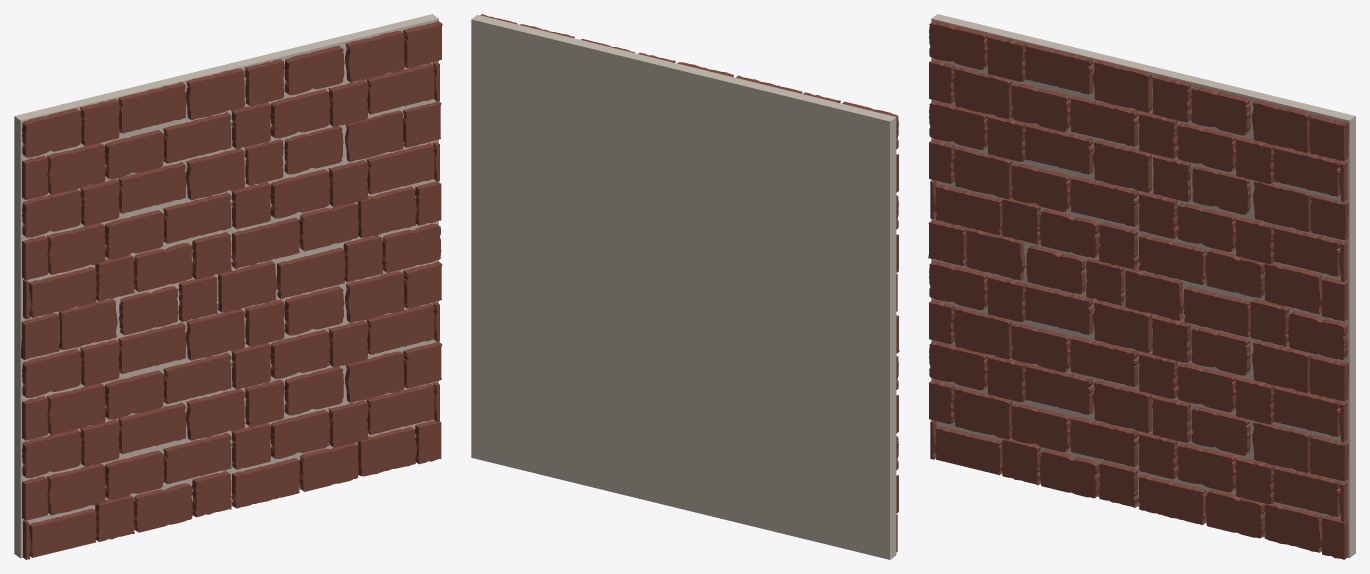
Rendered from FixedBrickWall.fbx.
3 renders of one model, left to right at view 1: azimuth 30°, elevation 25°; view 2: azimuth 150°, elevation 25°; view 3: azimuth 330°, elevation 25°, orthographic.
Visible parts, largest first — view 1: WALL, Brick.036, Brick.010, Brick.029, Brick.046, Brick.078, Brick.097, Brick.024, Brick.053, Brick.3, Brick.083, Brick.092 (+77 smaller); view 2: WALL; view 3: WALL, Brick.097, Brick.029, Brick.078, Brick.010, Brick.053, Brick.3, Brick.088, Brick.019, Brick.041, Brick.046, Brick.036 (+77 smaller).
Boxes of the visible parts, bbox=[...] form: WALL: bbox=[14, 14, 438, 558]; Brick.036: bbox=[277, 247, 345, 299]; Brick.010: bbox=[163, 112, 231, 163]; Brick.029: bbox=[163, 192, 231, 243]; Brick.046: bbox=[231, 217, 299, 268]; Brick.078: bbox=[163, 432, 231, 483]; Brick.097: bbox=[163, 352, 231, 403]; Brick.024: bbox=[366, 143, 434, 194]; Brick.053: bbox=[118, 322, 186, 373]; Brick.3: bbox=[118, 82, 186, 133]; Brick.083: bbox=[366, 383, 434, 434]; Brick.092: bbox=[366, 303, 434, 354]; WALL: bbox=[471, 15, 896, 559]; WALL: bbox=[931, 14, 1355, 557]; Brick.097: bbox=[1070, 336, 1138, 386]; Brick.029: bbox=[1070, 176, 1138, 226]; Brick.078: bbox=[1070, 416, 1138, 466]; Brick.010: bbox=[1070, 96, 1138, 146]; Brick.053: bbox=[1024, 284, 1093, 334]; Brick.3: bbox=[1024, 43, 1093, 94]; Brick.088: bbox=[1024, 364, 1093, 414]; Brick.019: bbox=[1024, 124, 1093, 174]; Brick.041: bbox=[935, 184, 1002, 234]; Brick.046: bbox=[1138, 234, 1206, 284]; Brick.036: bbox=[1183, 286, 1251, 337].
Bounding box in the file's own units: 1246 × 1246 × 54.18.
